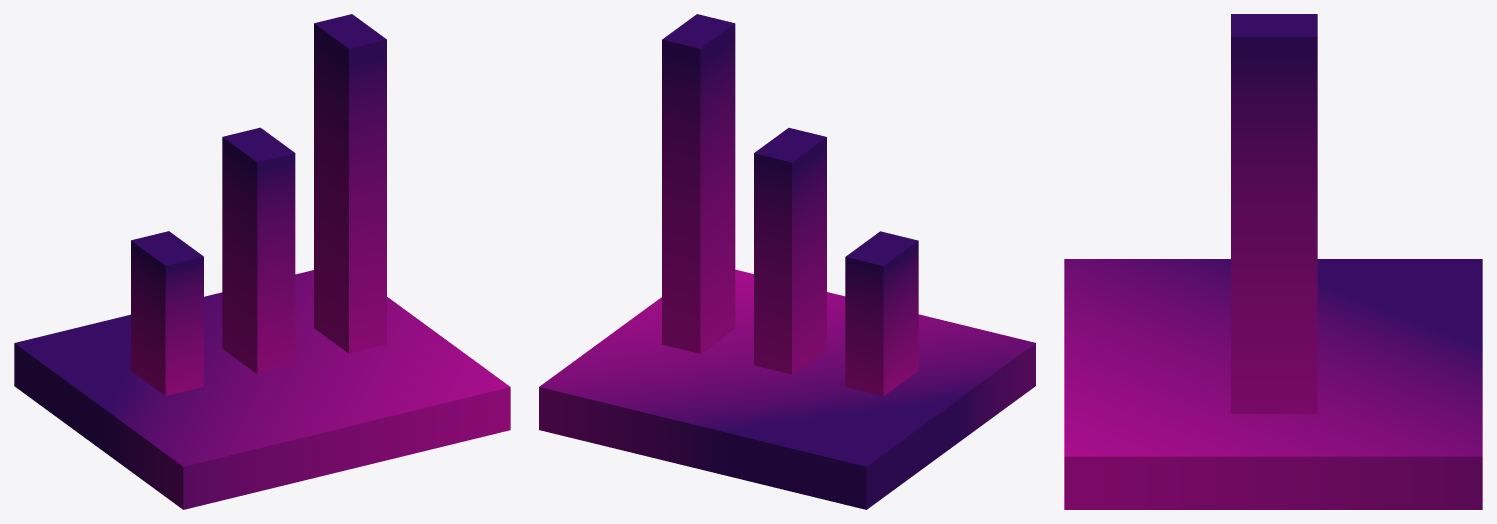
The model's file is 8_BAR_CHART.glb.
3 views of the same model, side by side, from view 1: azimuth 30°, elevation 25°; view 2: azimuth 150°, elevation 25°; view 3: azimuth 270°, elevation 25° (orthographic). The views are drawn at different scales.
Visible parts, largest first — view 1: Cubo.001, Cubo.004, Cubo.005, Cubo.006; view 2: Cubo.001, Cubo.004, Cubo.005, Cubo.006; view 3: Cubo.001, Cubo.004.
Boxes of the visible parts, x1=… form: Cubo.001: x1=14, y1=270, x2=510, y2=509; Cubo.004: x1=314, y1=14, x2=386, y2=353; Cubo.005: x1=222, y1=127, x2=295, y2=374; Cubo.006: x1=131, y1=231, x2=203, y2=395; Cubo.001: x1=539, y1=269, x2=1035, y2=509; Cubo.004: x1=662, y1=14, x2=735, y2=353; Cubo.005: x1=754, y1=128, x2=826, y2=374; Cubo.006: x1=845, y1=231, x2=918, y2=396; Cubo.001: x1=1064, y1=259, x2=1482, y2=509; Cubo.004: x1=1231, y1=14, x2=1317, y2=413.
Size of the model in its own units: 1.79 by 1.85 by 1.6.
Materials: 4 (4 with a texture image).
